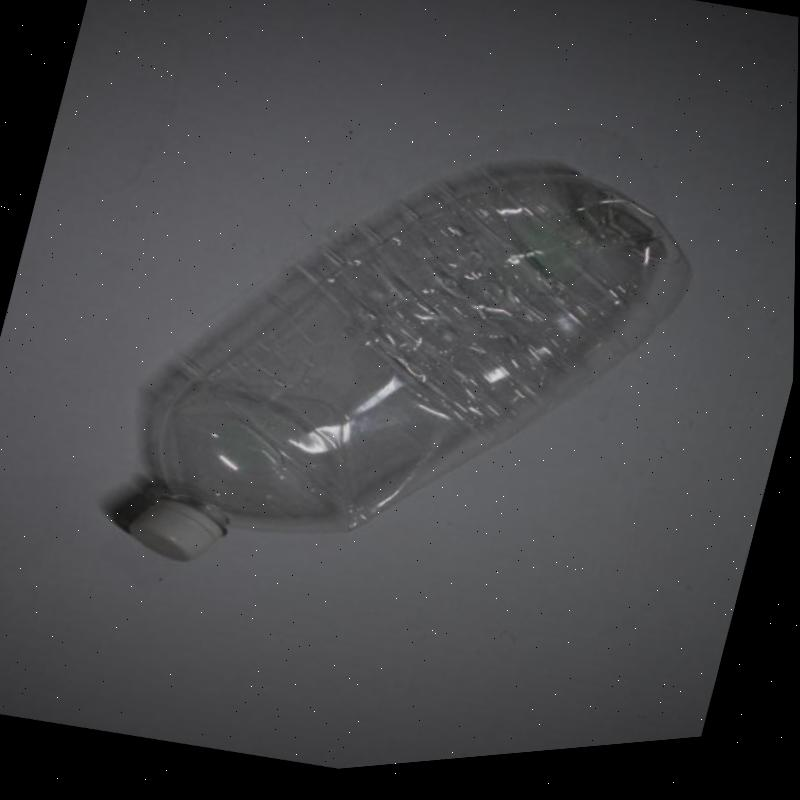botella: (113, 85, 712, 676)
